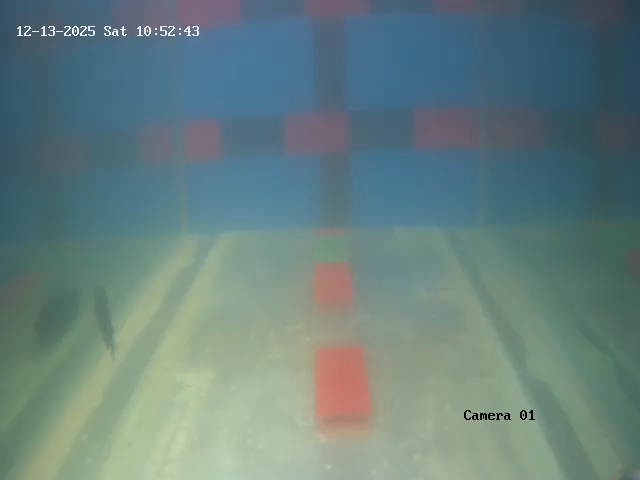fish: (85, 268, 135, 362)
